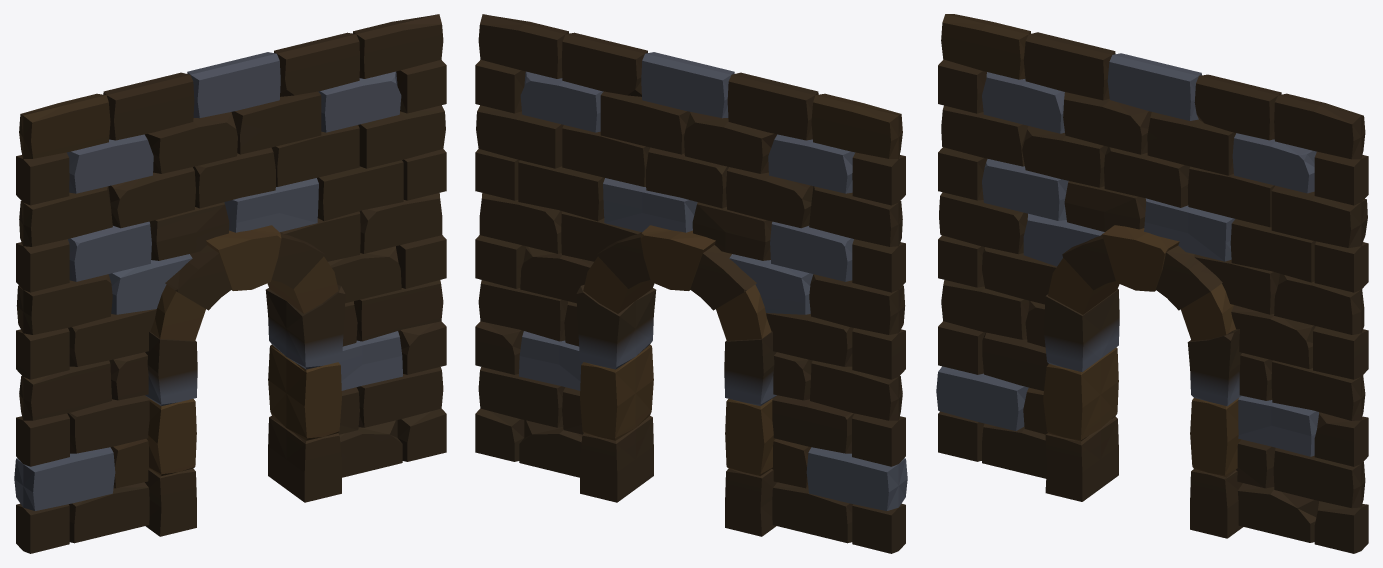
Rendered from Wall_09.fbx.
3 views of the same model, side by side, from view 1: azimuth 30°, elevation 25°; view 2: azimuth 150°, elevation 25°; view 3: azimuth 330°, elevation 25° (orthographic).
Visible parts, largest first — view 1: Wall_09; view 2: Wall_09; view 3: Wall_09.
Boxes of the visible parts, <box> form: Wall_09: <box>14,14,446,553</box>; Wall_09: <box>475,14,907,553</box>; Wall_09: <box>936,14,1368,553</box>.
Size of the model in its own units: 4 by 4.02 by 0.6426.
